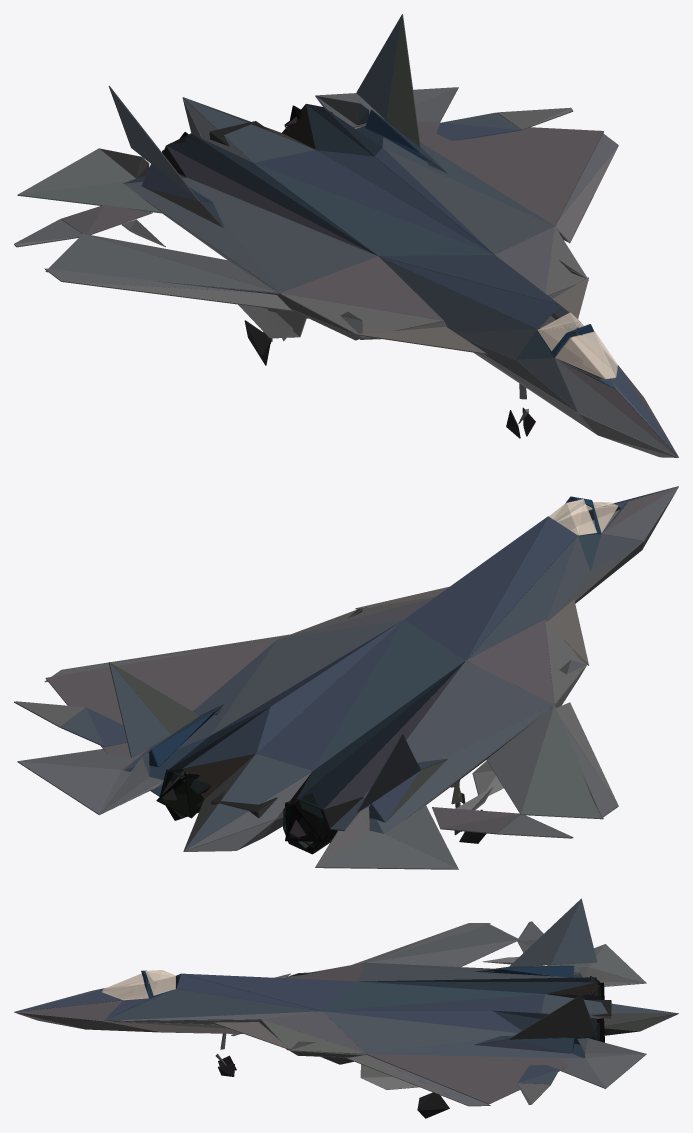
3 views of the same model, one above another, from view 1: azimuth 30°, elevation 25°; view 2: azimuth 150°, elevation 25°; view 3: azimuth 270°, elevation 25° (orthographic). The views are drawn at different scales.
Visible parts, largest first — view 1: Structure blocks, Glass blocks; view 2: Structure blocks, Glass blocks; view 3: Structure blocks, Glass blocks.
Boxes of the visible parts, x1=… form: Structure blocks: x1=14, y1=14, x2=678, y2=457; Glass blocks: x1=537, y1=312, x2=617, y2=379; Structure blocks: x1=14, y1=486, x2=678, y2=869; Glass blocks: x1=549, y1=499, x2=618, y2=535; Structure blocks: x1=14, y1=898, x2=678, y2=1118; Glass blocks: x1=102, y1=970, x2=175, y2=1000.
Size of the model in its own units: 19.57 by 6.87 by 30.07.
